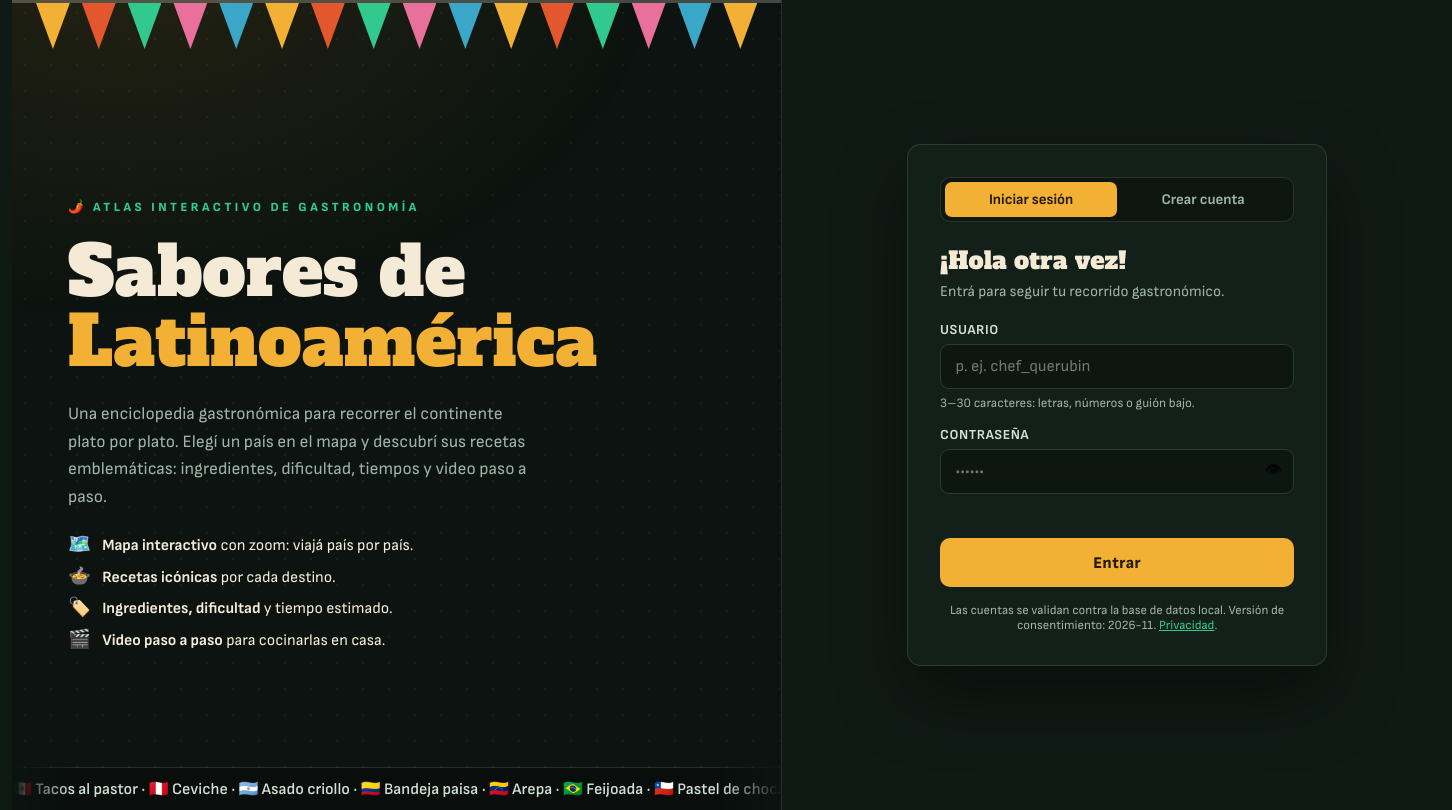
Scenario: pantalla de auth › con los tres checks envía consentimientos true y entra
The width and height of the screenshot is (1452, 810).
Later steps or results of the test are not shown.
Click the tab "Crear cuenta" at (1203, 199), box [1117, 182, 1289, 217]
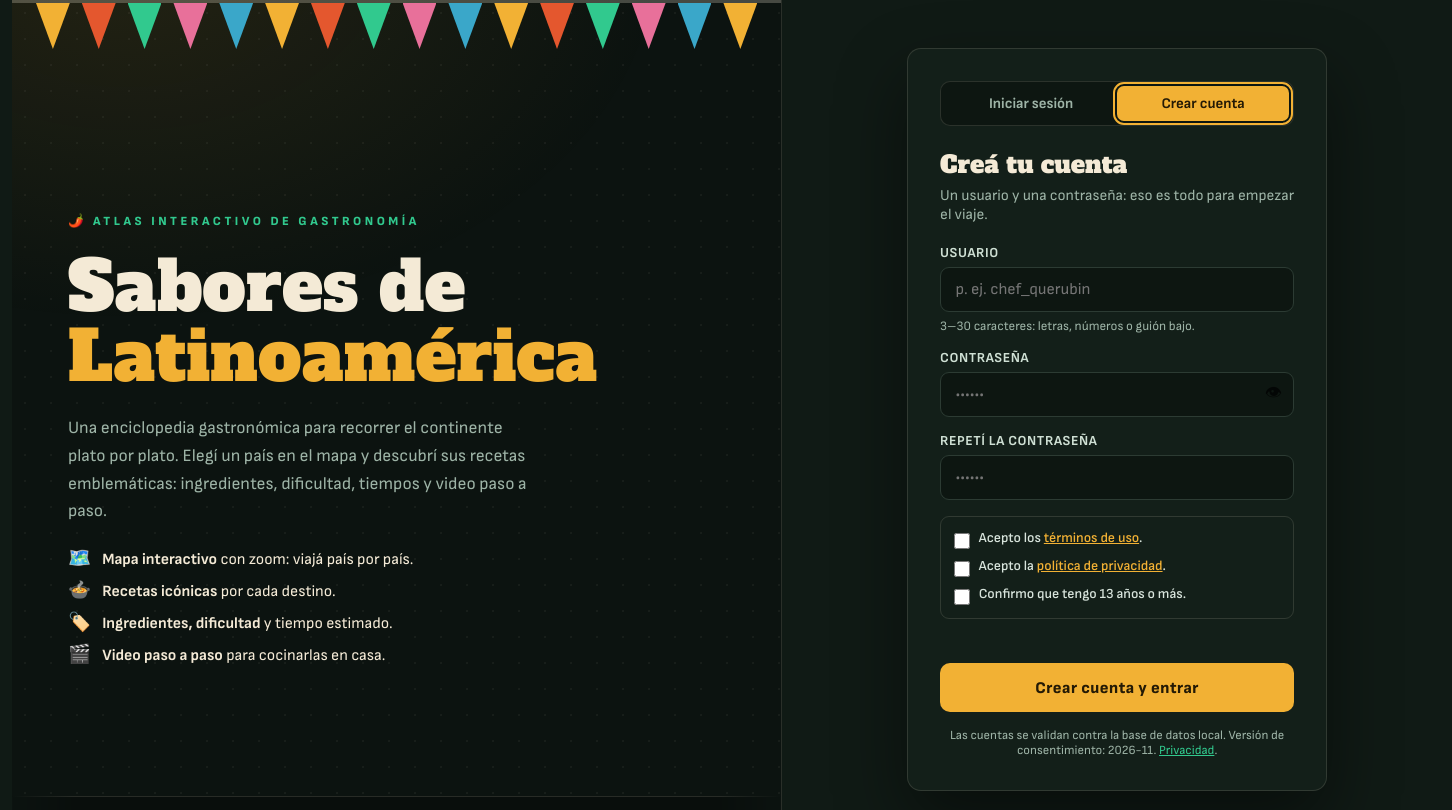
Type "nueva_persona" into the field labelled "Usuario" at (1117, 290), box [940, 267, 1294, 312]
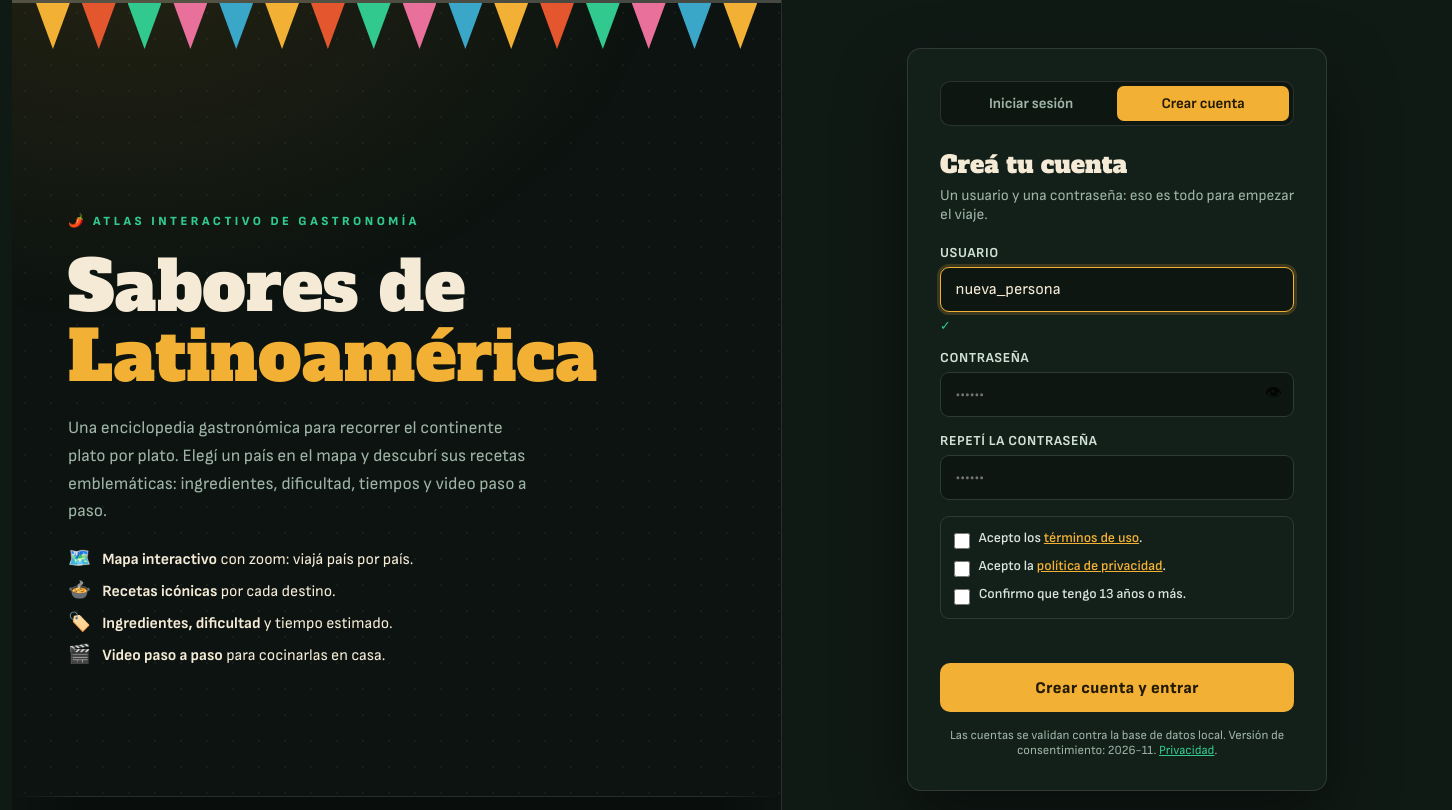
Type "Prueba12345" into the password field labelled "Contraseña" at (1117, 394), box [940, 372, 1294, 417]
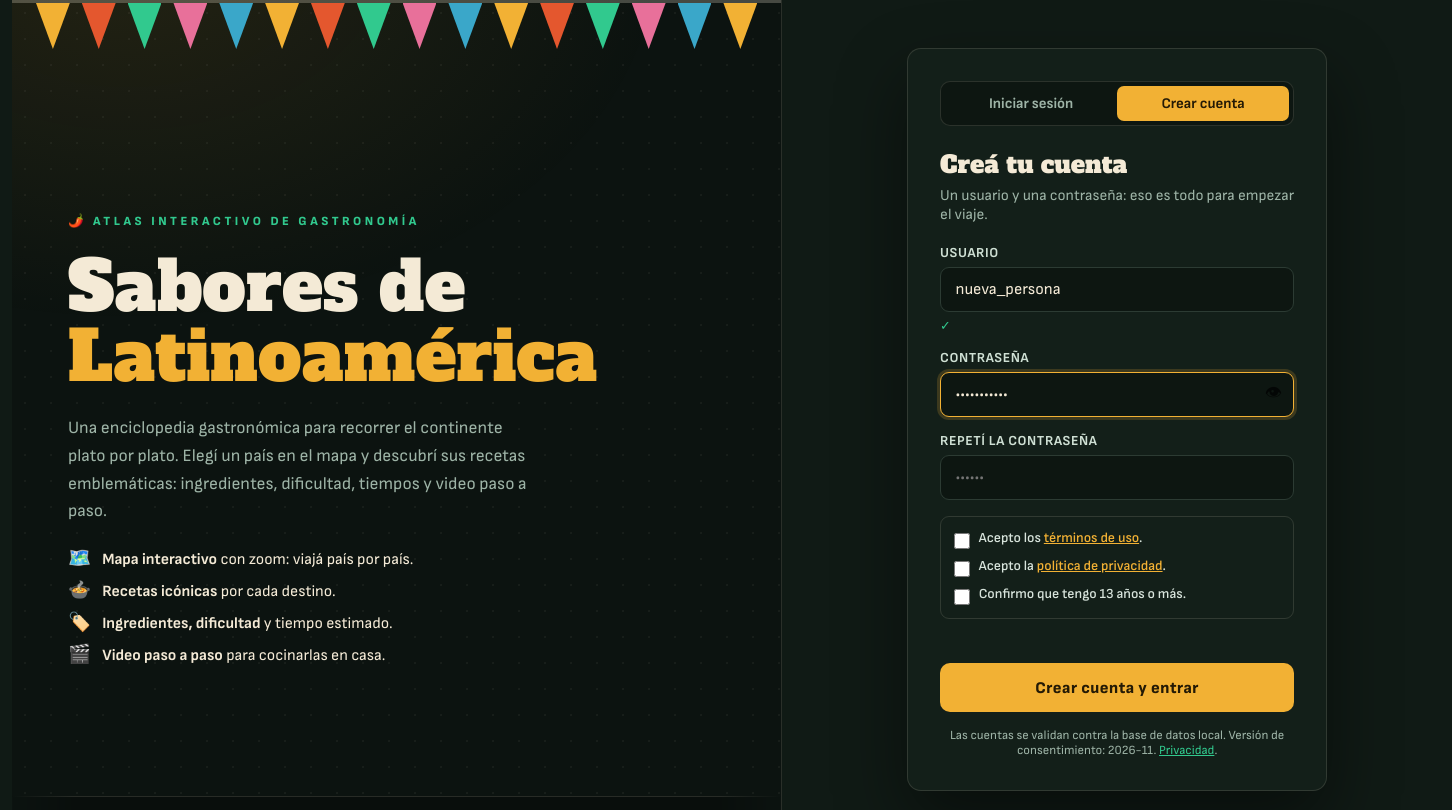
Type "Prueba12345" into the password field labelled "Repetí la contraseña" at (1117, 478), box [940, 455, 1294, 500]
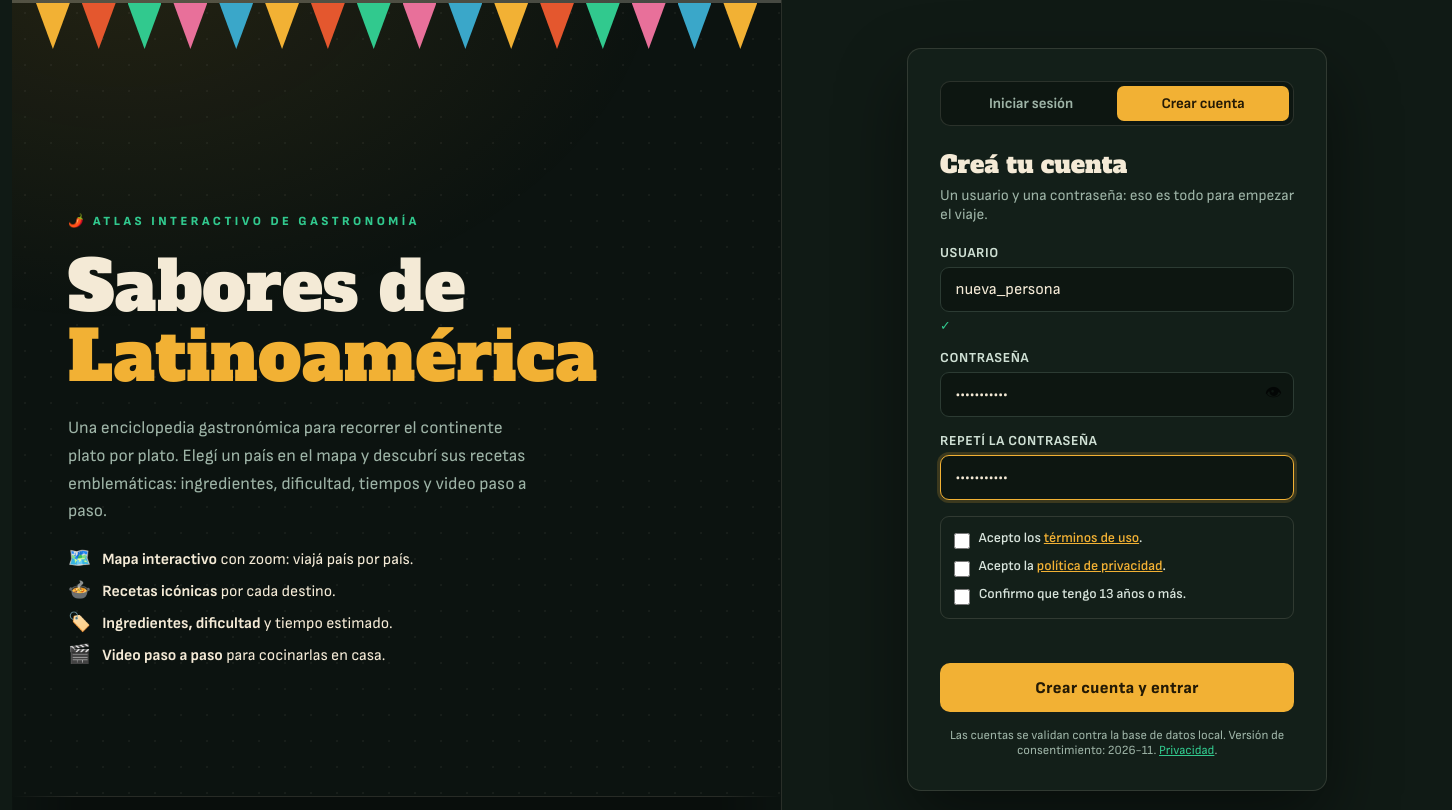
Result: the number of checkboxes is 3 at [954, 533, 970, 549]; [954, 561, 970, 577]; [954, 589, 970, 605]
